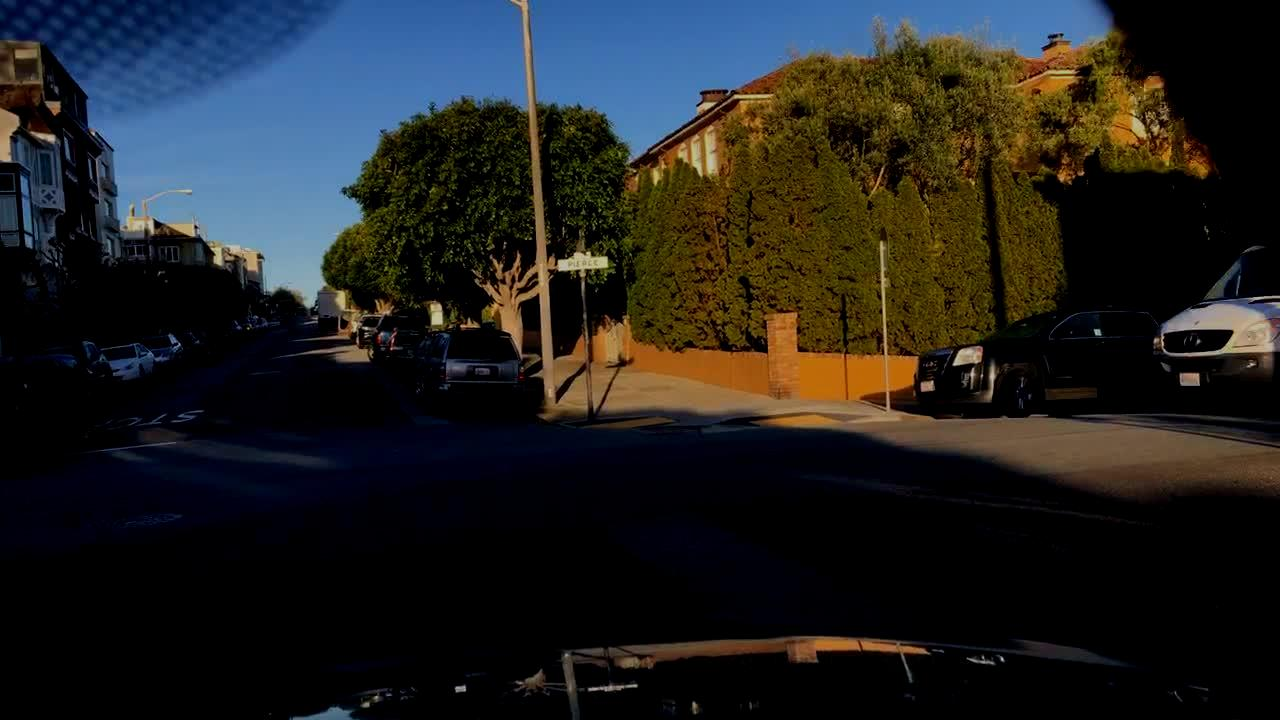Mercedes: (1181, 329, 1204, 354)
